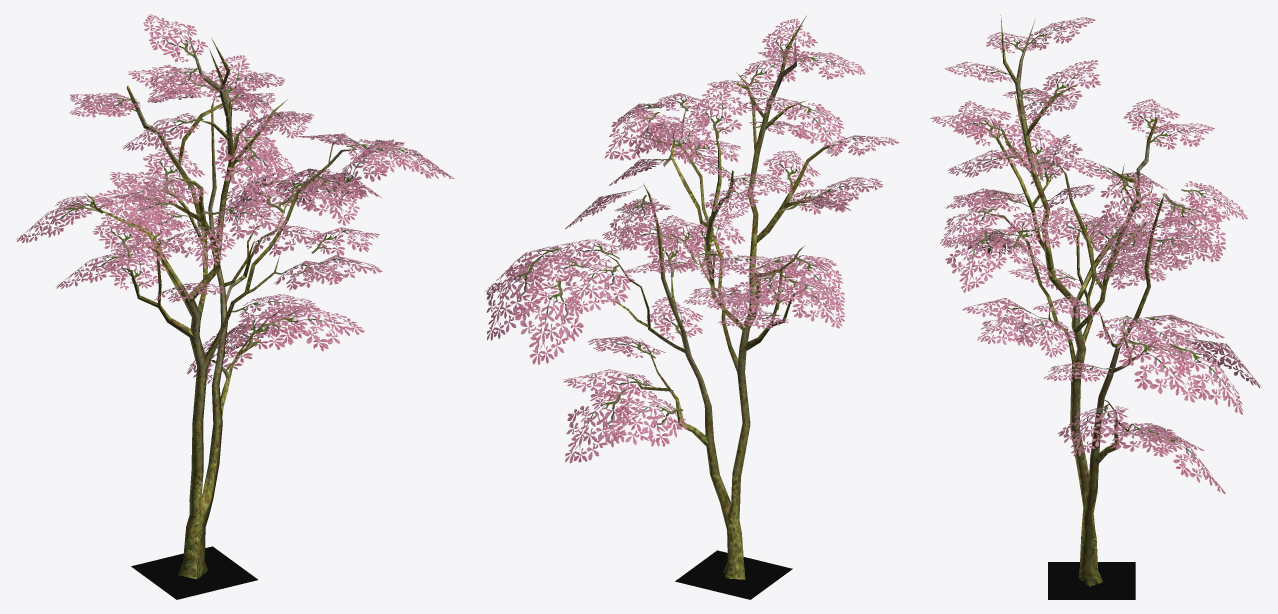
The model's file is jj_tyshu08.FBX.
3 views of the same model, side by side, from view 1: azimuth 30°, elevation 25°; view 2: azimuth 150°, elevation 25°; view 3: azimuth 270°, elevation 25° (orthographic). The views are drawn at different scales.
Visible parts, largest first — view 1: jj_tyshu08, shadow; view 2: jj_tyshu08, shadow; view 3: jj_tyshu08, shadow.
Part boxes in pixels (<box>): jj_tyshu08: <box>16,14,454,579</box>; shadow: <box>131,546,257,599</box>; jj_tyshu08: <box>484,15,899,579</box>; shadow: <box>675,550,792,599</box>; jj_tyshu08: <box>930,15,1261,586</box>; shadow: <box>1048,562,1135,599</box>.
Size of the model in its own units: 408 by 625 by 342.
2 materials, 2 textured.
